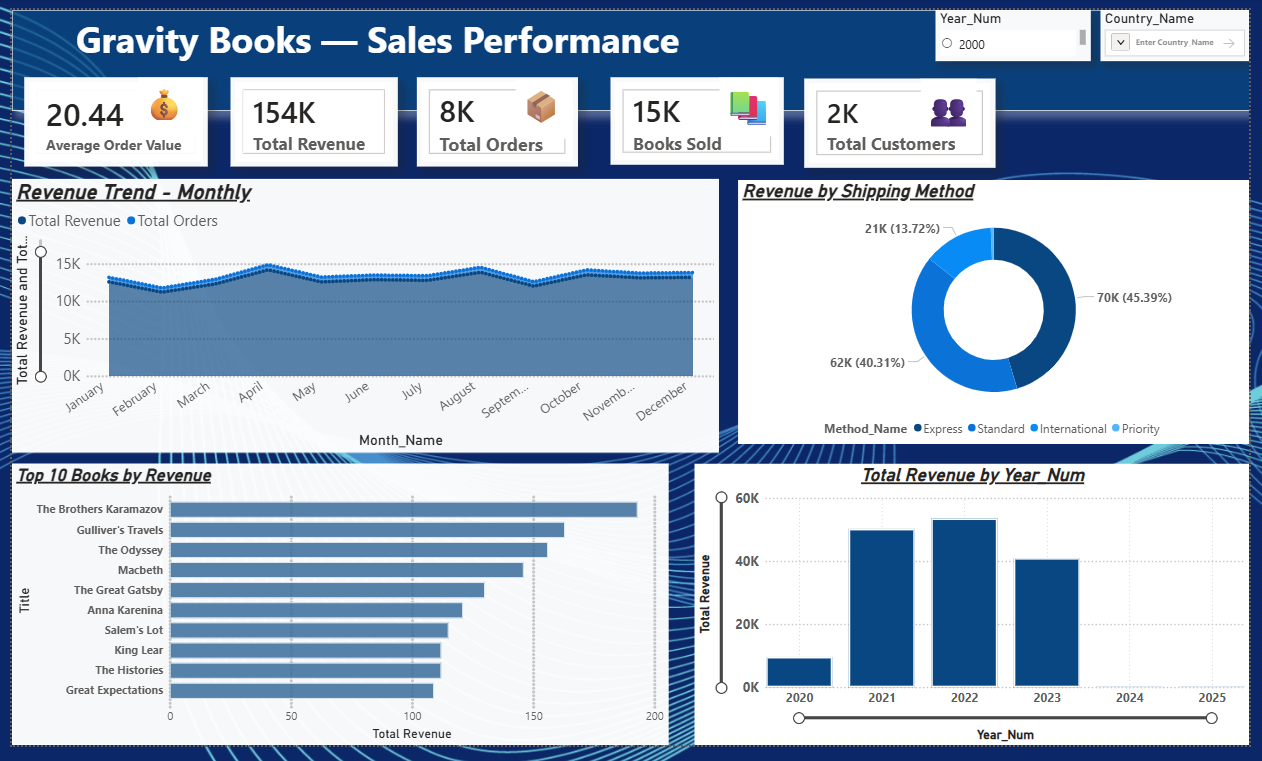

Layout of this report page (visuals, bound fields, positions):
{"tool":"powerbi","page":{"name":"Page 1","canvas":[1650,980],"ordinal":0},"visuals":[{"type":"textbox","box":[0,0,1650,134],"z":0},{"type":"listSlicer","fields":{"Values":["Dim_Date.Year_Num"]},"box":[1232,0,206,68],"z":1000},{"type":"textSlicer","fields":{"Values":["Dim_Address.Country_Name"]},"box":[1452,0,198,68],"z":2000},{"type":"clusteredColumnChart","fields":{"Category":["Dim_Date.Year_Num"],"Y":["Table_measures.Total Revenue"]},"box":[910,605,740,375],"z":3000},{"type":"clusteredBarChart","title":"Top 10 Books by Revenue","fields":{"Category":["Dim_Book.Title"],"Y":["Table_measures.Total Revenue"]},"box":[0,605.4,875,375],"z":4000},{"type":"cardVisual","fields":{"Data":["Table_measures.Total Revenue"]},"box":[292,90,222,118],"z":5000},{"type":"cardVisual","fields":{"Data":["Table_measures.Total Orders"]},"box":[540,90,214,118],"z":6000},{"type":"cardVisual","fields":{"Data":["Table_measures.Books Sold"]},"box":[798,90,230,116],"z":7000},{"type":"cardVisual","fields":{"Data":["Table_measures.Average Order Value"]},"box":[16,90,244,118],"z":8000},{"type":"cardVisual","fields":{"Data":["Table_measures.Total Customers"]},"box":[1056,92,254,118],"z":9000},{"type":"stackedAreaChart","title":"Revenue Trend - Monthly","fields":{"Category":["Dim_Date.Month_Name"],"Y":["Table_measures.Total Revenue","Table_measures.Total Orders"]},"box":[0,225,942.5,365],"z":10000},{"type":"donutChart","title":"Revenue by Shipping Method","fields":{"Category":["Dim_Shipping_Method.Method_Name"],"Y":["Table_measures.Total Revenue"]},"box":[968,226,682,352],"z":11000},{"type":"textbox","box":[1212,92,74,78],"z":12000},{"type":"textbox","box":[944,90,78,78],"z":13000},{"type":"textbox","box":[168,90,86,78],"z":14000},{"type":"textbox","box":[672,94,74,78],"z":15000}]}

Visuals, with their boxes in screenshot pixels (x1, y1, x2, y2), scaled from the page's 1650x980 canvas onto the 1262x761 screenshot:
textbox: crop(0, 0, 1261, 104)
listSlicer - Dim_Date.Year_Num: crop(942, 0, 1100, 53)
textSlicer - Dim_Address.Country_Name: crop(1111, 0, 1261, 53)
clusteredColumnChart - Dim_Date.Year_Num x Table_measures.Total Revenue: crop(696, 470, 1261, 760)
"Top 10 Books by Revenue" clusteredBarChart: crop(0, 470, 669, 760)
cardVisual - Table_measures.Total Revenue: crop(223, 70, 393, 162)
cardVisual - Table_measures.Total Orders: crop(413, 70, 577, 162)
cardVisual - Table_measures.Books Sold: crop(610, 70, 786, 160)
cardVisual - Table_measures.Average Order Value: crop(12, 70, 199, 162)
cardVisual - Table_measures.Total Customers: crop(808, 71, 1002, 163)
"Revenue Trend - Monthly" stackedAreaChart: crop(0, 175, 721, 458)
"Revenue by Shipping Method" donutChart: crop(740, 175, 1261, 449)
textbox: crop(927, 71, 984, 132)
textbox: crop(722, 70, 782, 130)
textbox: crop(128, 70, 194, 130)
textbox: crop(514, 73, 571, 134)
